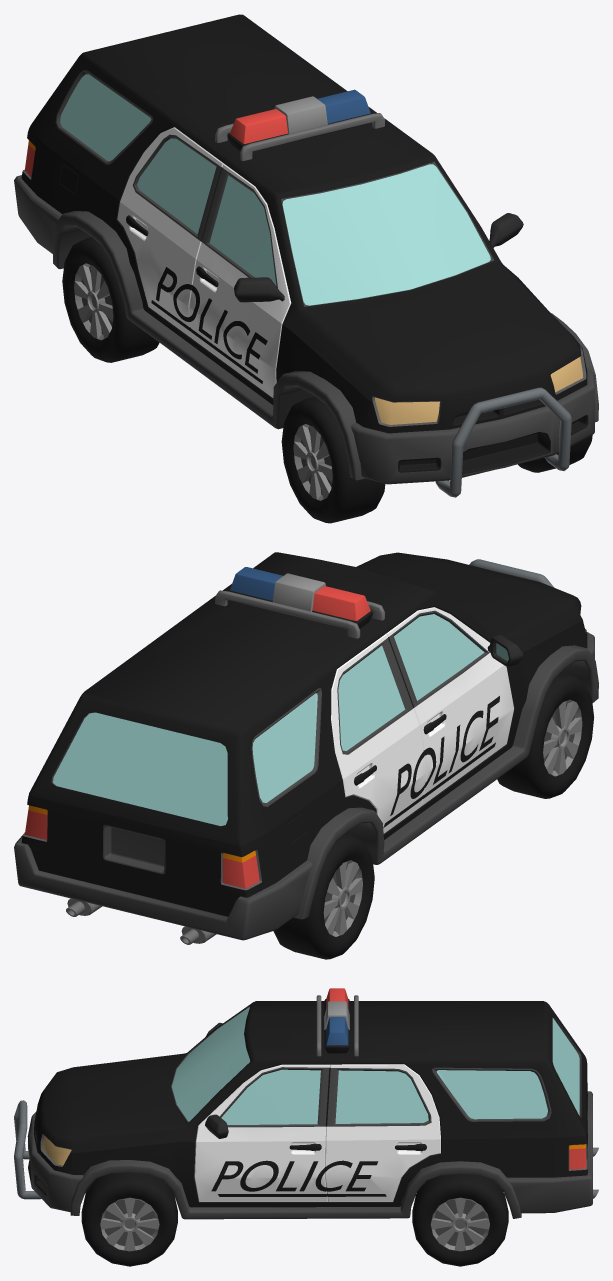
The model's file is SM_Vehicles_Police_01.fbx.
3 views of the same model, one above another, from view 1: azimuth 30°, elevation 25°; view 2: azimuth 150°, elevation 25°; view 3: azimuth 270°, elevation 25° (orthographic). The views are drawn at different scales.
Visible parts, largest first — view 1: SM_Vehicles_Police_01, SM_Vehicles_Police_01_FR, SM_Vehicles_Police_01_RR, SM_Vehicles_Police_01_FL; view 2: SM_Vehicles_Police_01, SM_Vehicles_Police_01_RR, SM_Vehicles_Police_01_FR; view 3: SM_Vehicles_Police_01, SM_Vehicles_Police_01_FL, SM_Vehicles_Police_01_RL.
Part boxes in pixels (x1=…): SM_Vehicles_Police_01: x1=14, y1=14, x2=598, y2=497; SM_Vehicles_Police_01_FR: x1=281, y1=396, x2=385, y2=523; SM_Vehicles_Police_01_RR: x1=62, y1=237, x2=159, y2=362; SM_Vehicles_Police_01_FL: x1=518, y1=435, x2=592, y2=472; SM_Vehicles_Police_01: x1=14, y1=552, x2=598, y2=944; SM_Vehicles_Police_01_RR: x1=273, y1=833, x2=374, y2=959; SM_Vehicles_Police_01_FR: x1=497, y1=672, x2=594, y2=798; SM_Vehicles_Police_01: x1=14, y1=988, x2=598, y2=1219; SM_Vehicles_Police_01_FL: x1=81, y1=1173, x2=177, y2=1266; SM_Vehicles_Police_01_RL: x1=412, y1=1174, x2=508, y2=1266.
Size of the model in its own units: 2.1 by 1.98 by 4.91.
